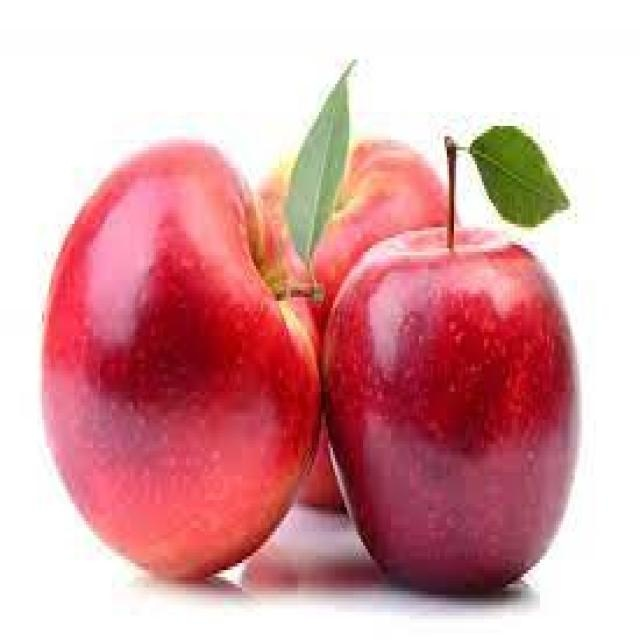agrume: (16, 115, 347, 617), (314, 171, 617, 626), (214, 113, 483, 548)
